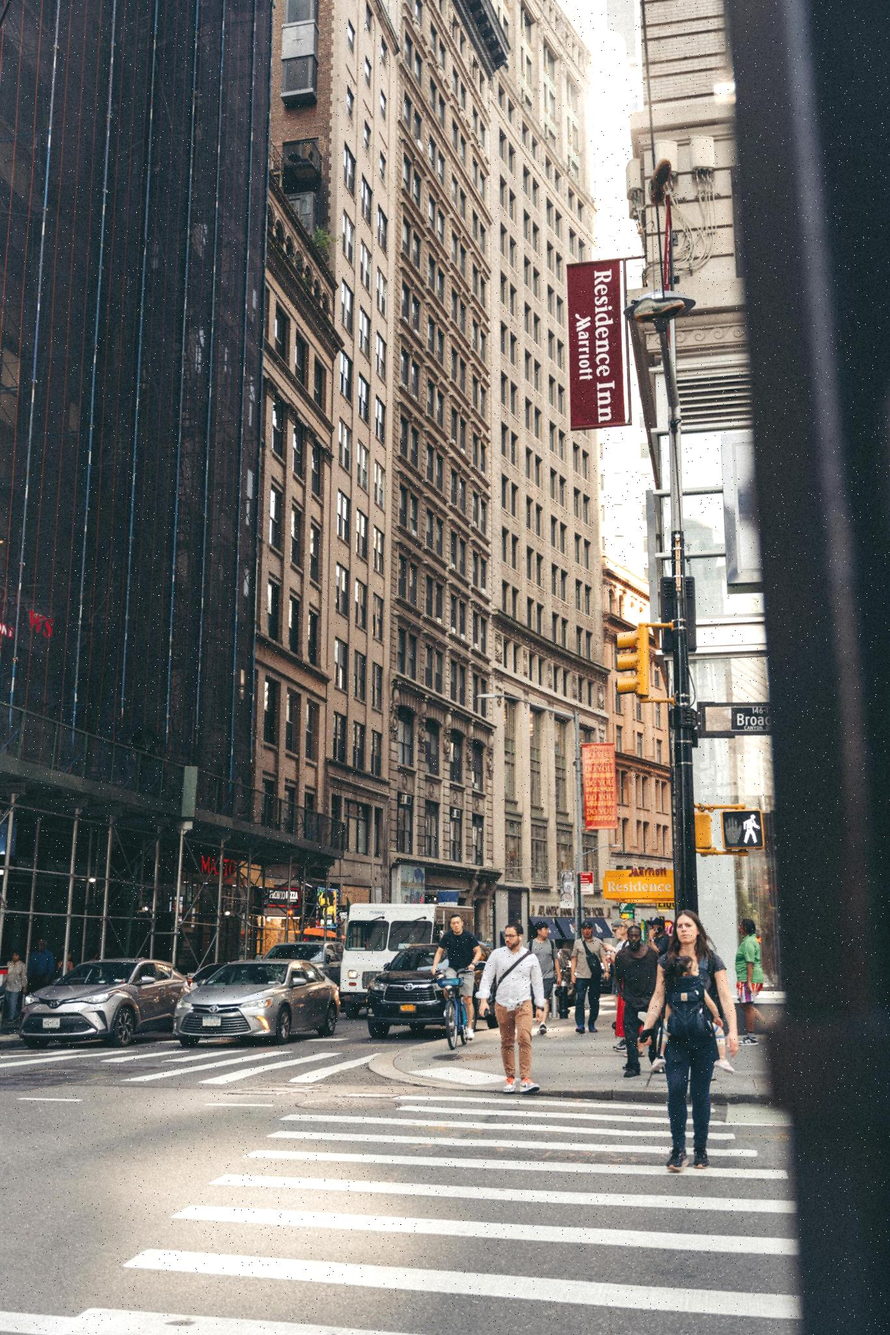car: (175, 958, 342, 1054), (20, 961, 192, 1053), (367, 943, 449, 1038)
pedestrian: (641, 916, 738, 1176), (479, 923, 545, 1095), (610, 926, 656, 1079), (440, 910, 484, 1043), (570, 920, 604, 1031), (736, 916, 764, 1037), (532, 924, 556, 1033), (1, 952, 26, 1030), (28, 933, 58, 994)
